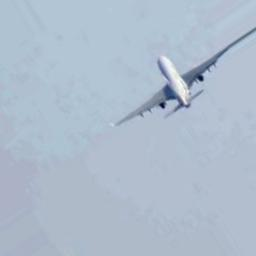Airplane: (111, 44, 232, 128)
